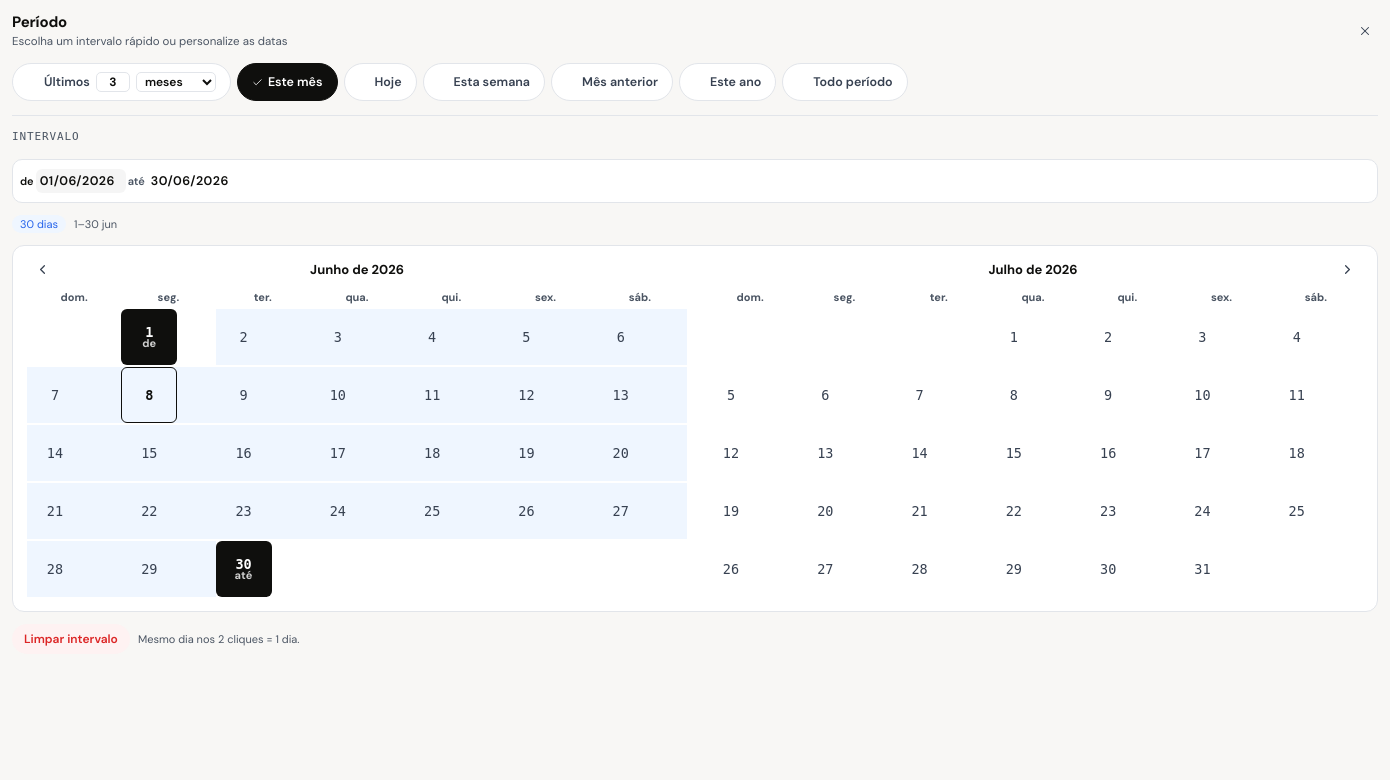
Test: <PeriodPanel> › a janela relativa preenche De/Até ao ser acionada
Click the button with aria-label "Últimos 3 meses": (67, 82) [44,74,90,90]
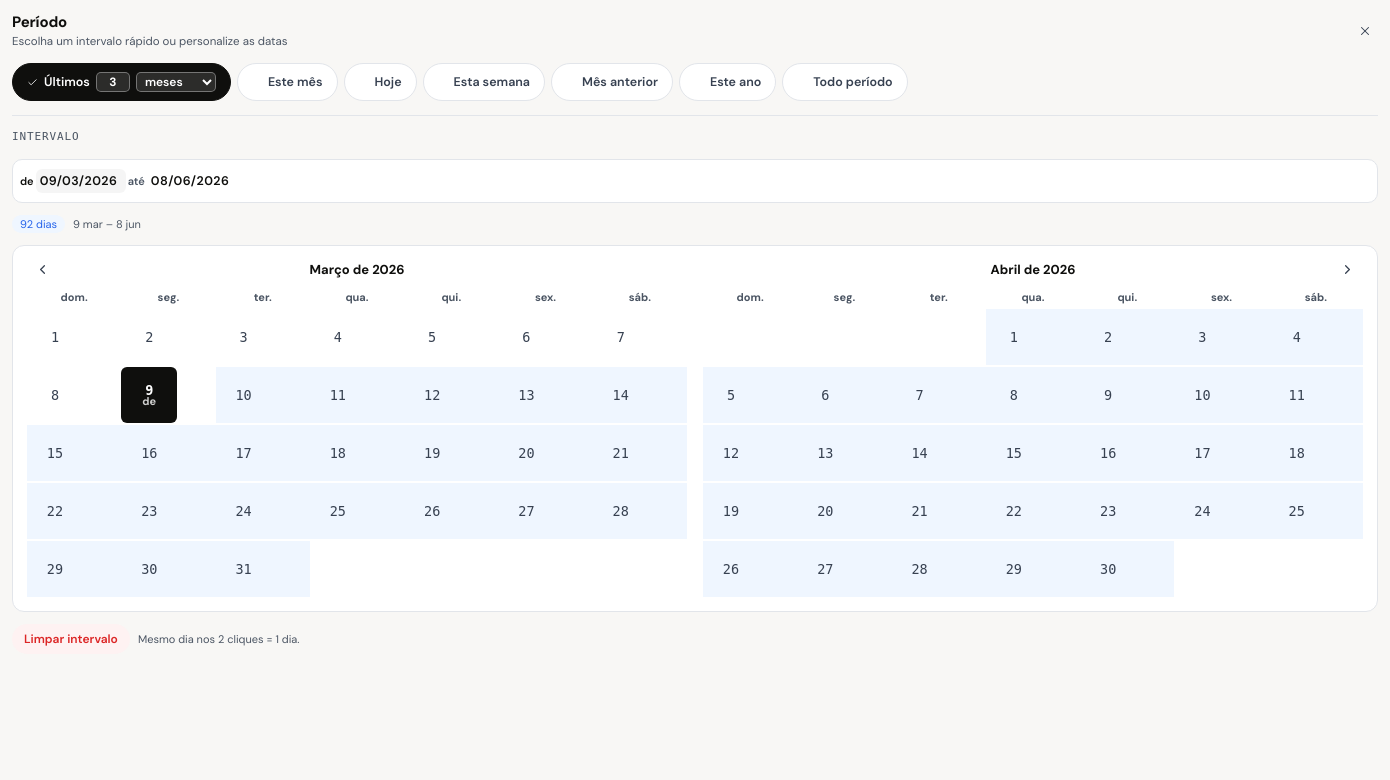
Expected: the field named "De" is not empty, [36,169,126,193]
Expected: the field named "Até" is not empty, [147,169,237,193]
